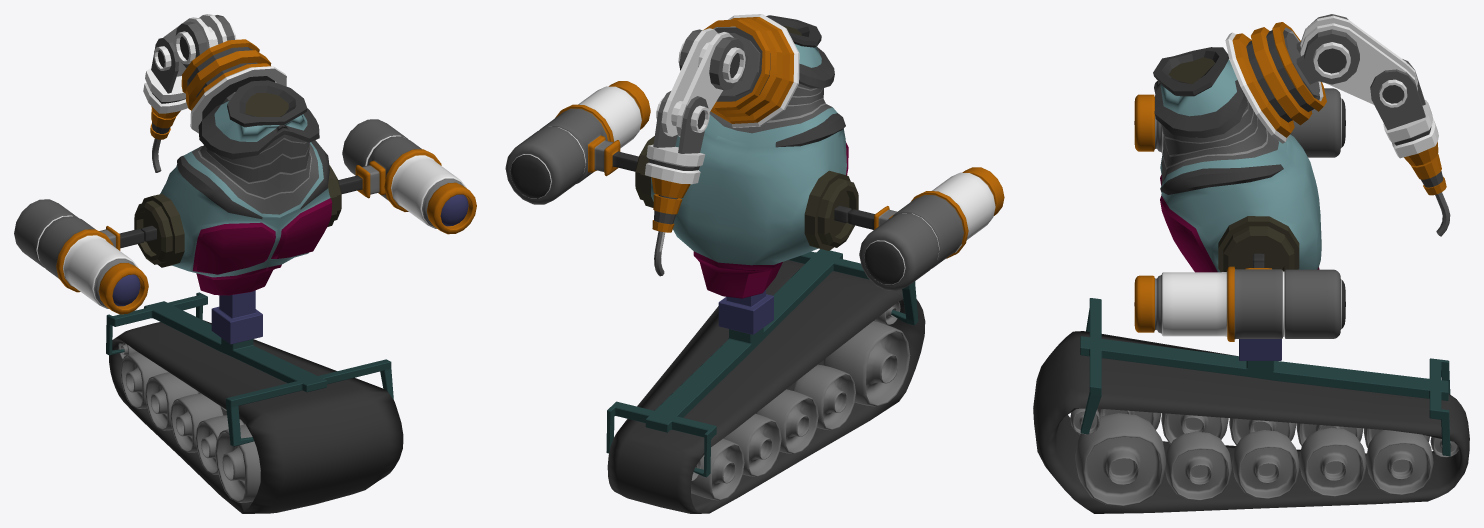
The model's file is npcRobo14.fbx.
The picture shows the model from 3 angles, left to right: view 1: azimuth 30°, elevation 25°; view 2: azimuth 150°, elevation 25°; view 3: azimuth 270°, elevation 25°; orthographic projection. The views are drawn at different scales.
Parts seen in each view (by area): view 1: npcRobo14; view 2: npcRobo14; view 3: npcRobo14.
Boxes of the visible parts, bbox=[...] form: npcRobo14: bbox=[14, 14, 476, 513]; npcRobo14: bbox=[505, 14, 1004, 513]; npcRobo14: bbox=[1033, 14, 1469, 513].
Bounding box in the file's own units: 167 × 169 × 145.
